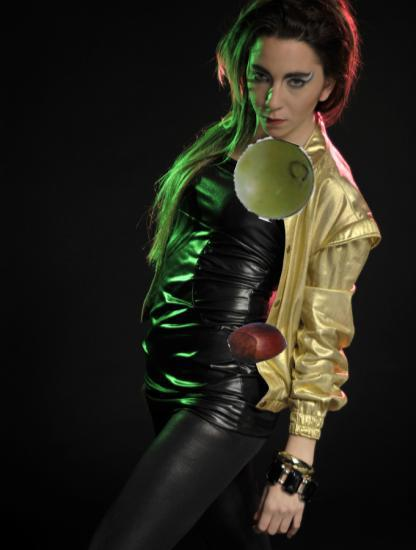Chestnut: (229, 314, 286, 371)
Grape: (233, 139, 316, 222)
